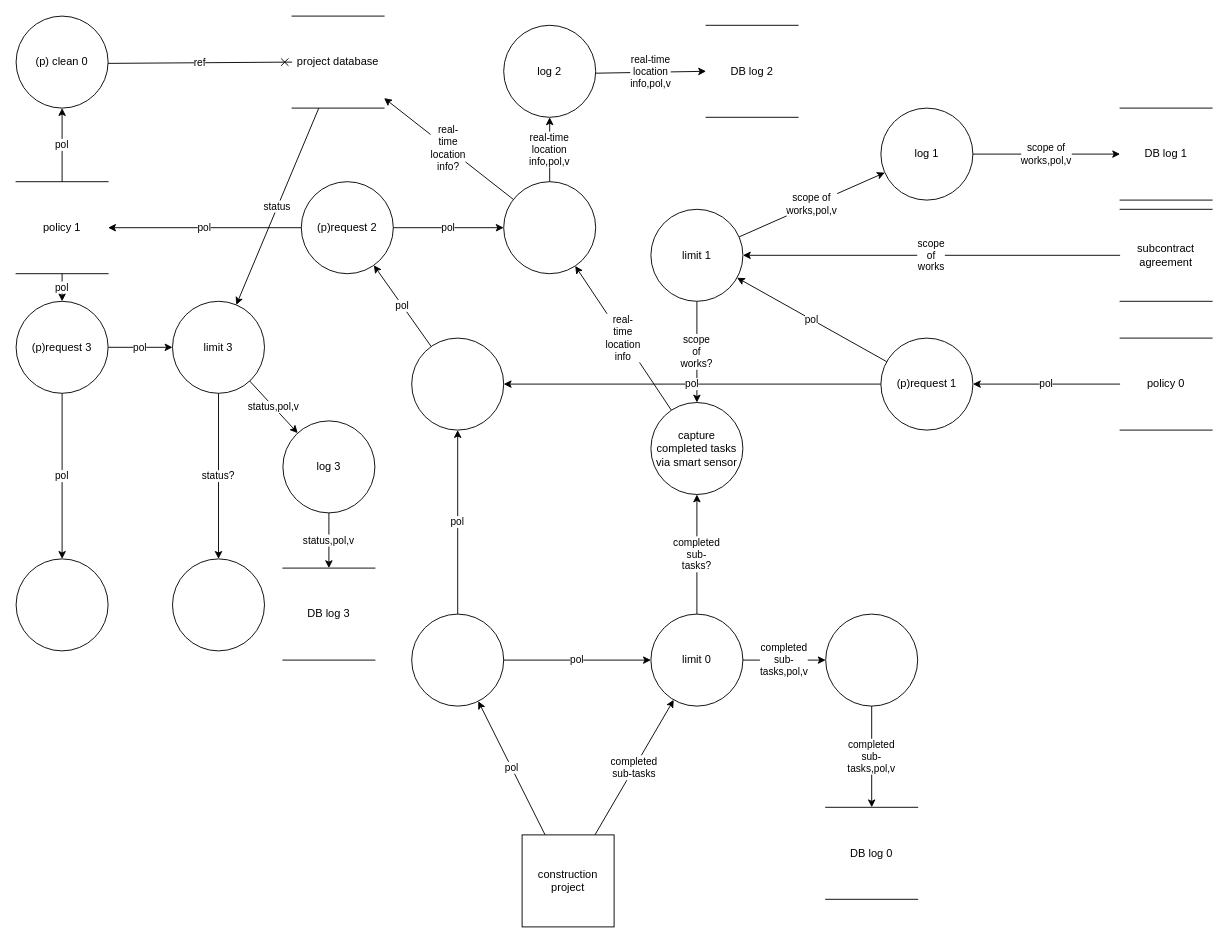
Image size: 1228x943. Some labels were removed from this diagram. Here are the shapes that lost their labels. From the top down, the centre of each, then its label:
(x=549, y=227): limit 2
(x=457, y=383): (p)reason capture completed tasks via smart sensor
(x=61, y=604): (p)reason auto-assign status data
(x=218, y=604): auto-assign status data
(x=457, y=659): (p)request 0
(x=871, y=659): log 0
